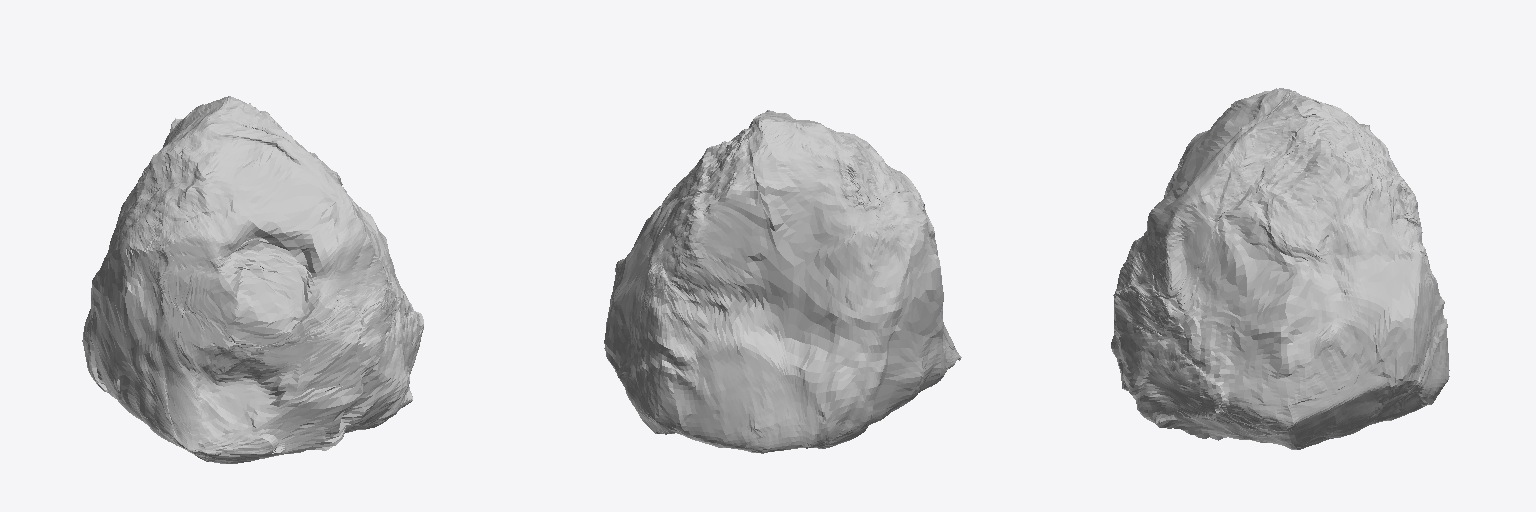
Rendered from Rock_01_Hite.OBJ.
The picture shows the model from 3 angles: view 1: azimuth 30°, elevation 25°; view 2: azimuth 150°, elevation 25°; view 3: azimuth 270°, elevation 25°; orthographic projection.
Parts seen in each view (by area): view 1: Group2; view 2: Group2; view 3: Group2.
Part boxes in pixels (left/top/right/bottom): Group2: left=82, top=96, right=423, bottom=463; Group2: left=604, top=110, right=961, bottom=453; Group2: left=1111, top=88, right=1449, bottom=449.
Bounding box in the file's own units: 8.51 × 8.04 × 8.22.